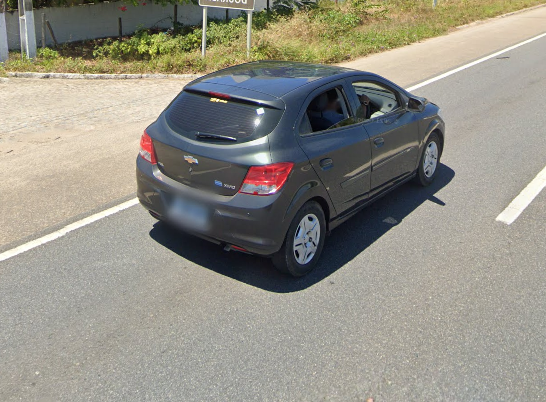car: (133, 57, 447, 280)
